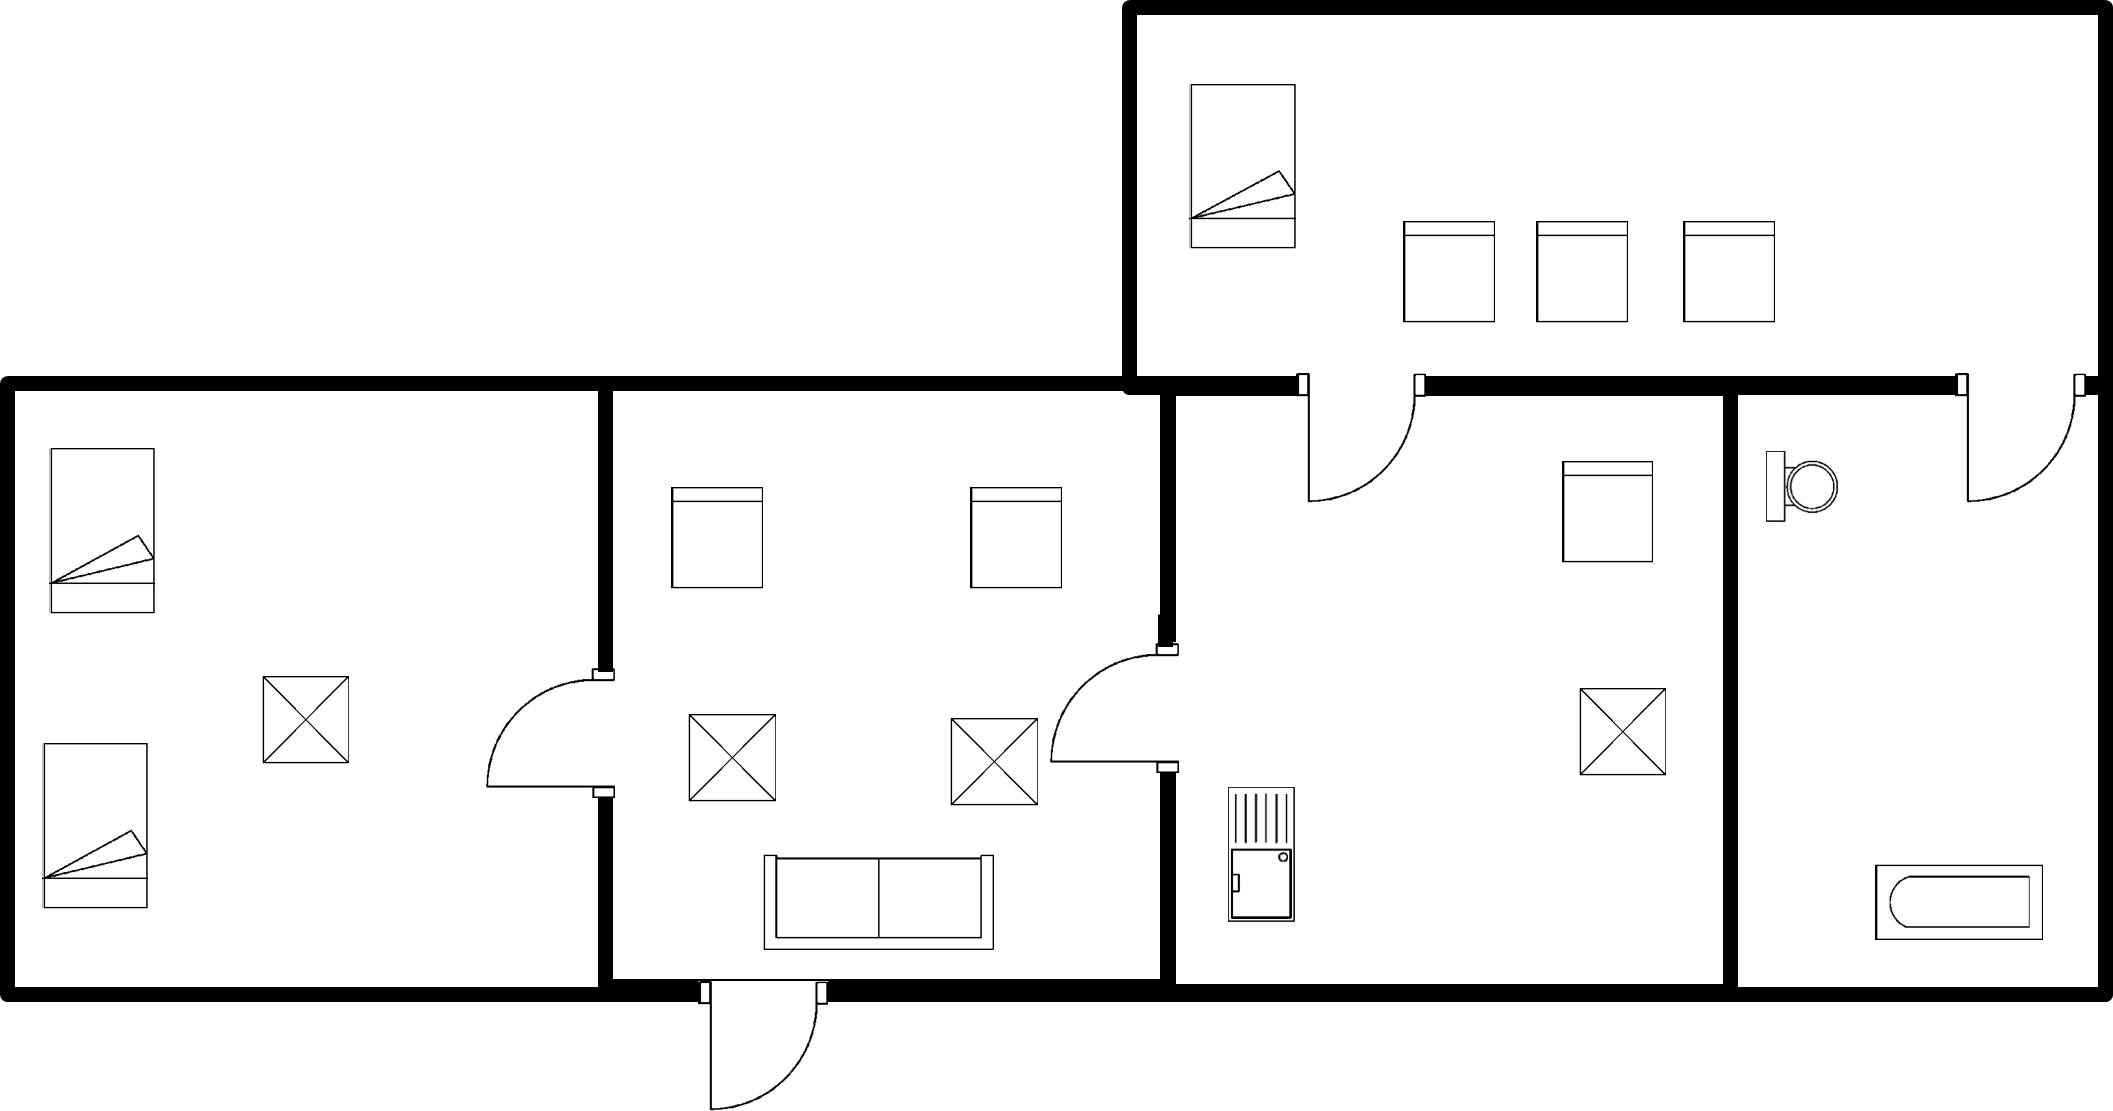bed: (1180, 75, 1312, 259), (42, 438, 166, 628), (33, 738, 159, 920)
coffee_table: (939, 708, 1048, 823), (251, 667, 362, 775), (681, 706, 788, 818), (1571, 679, 1677, 791)
large_sink: (1751, 438, 1853, 531)
large_sofa: (751, 844, 1007, 961)
sink: (1216, 781, 1307, 931)
small_sofa: (1665, 211, 1791, 332), (1550, 450, 1663, 581), (962, 476, 1078, 602), (1392, 209, 1504, 337), (1530, 211, 1642, 337), (660, 479, 772, 600)
tub: (1863, 852, 2057, 953)
